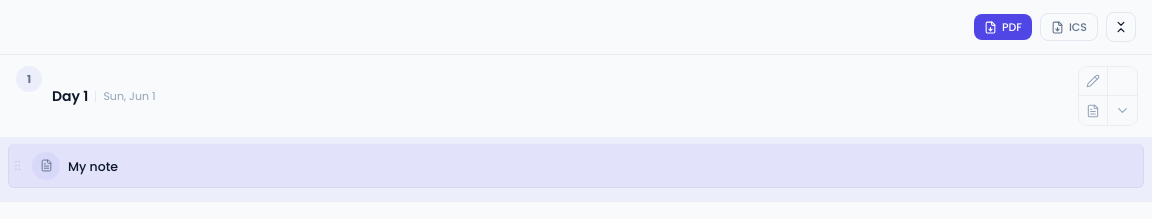
DayPlanSidebar › FE-PLANNER-DAYPLAN-034: right-click on note opens context menu
Right-click the text "My note".
right_click(93, 166)  # box [68,158,118,174]
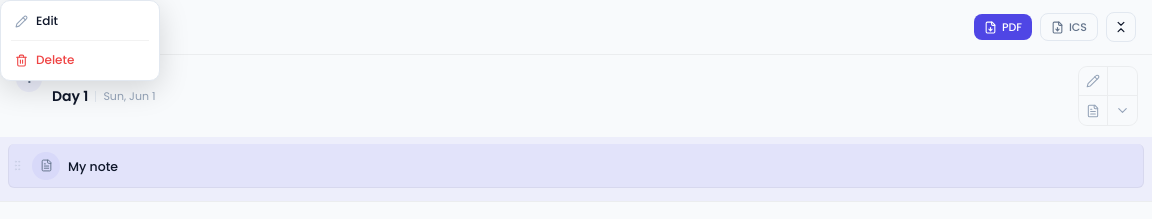
expect the text "Edit" is shown: met, box [36,12,58,30]
expect the text "Delete" is shown: met, box [36,51,74,69]
